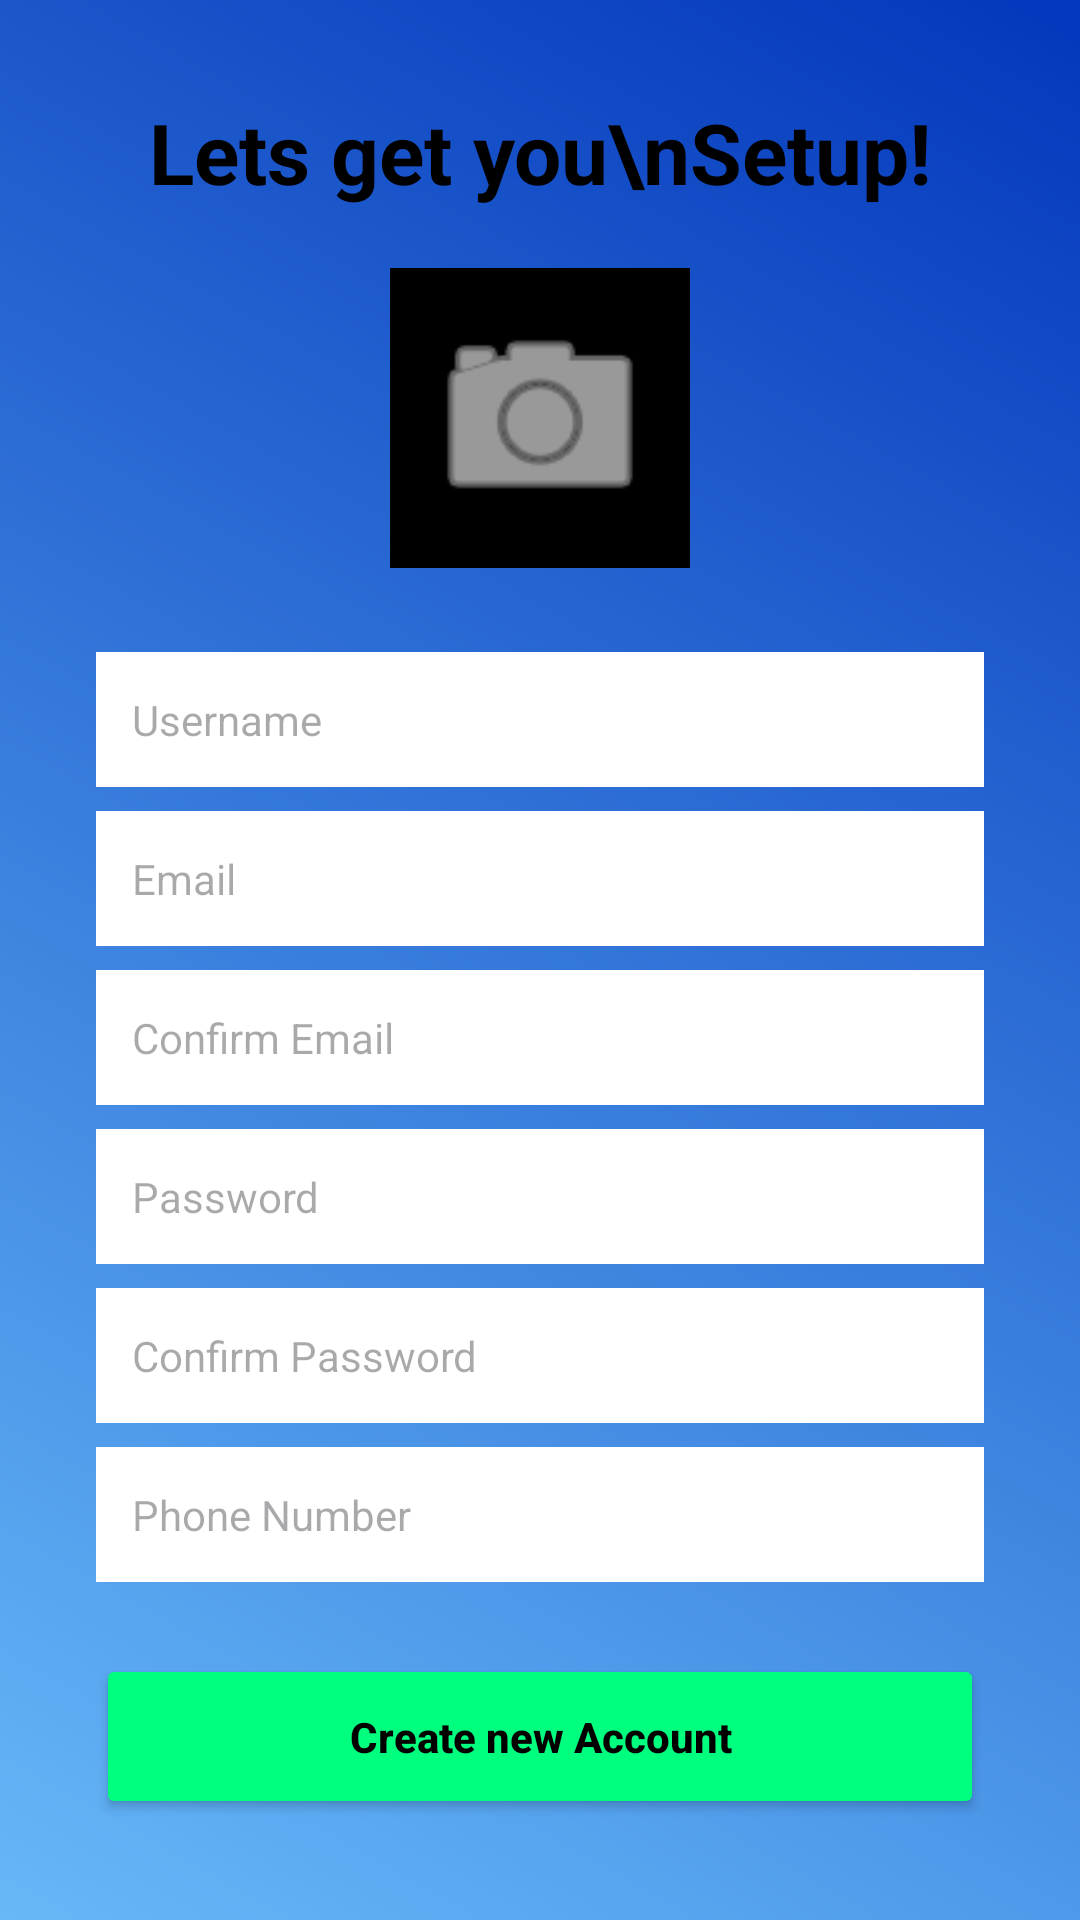

Screen size 1080 × 1920. Icon name, then its box in pixels as (x1, y1, x2, y2):
camera: (390, 268, 690, 568)
